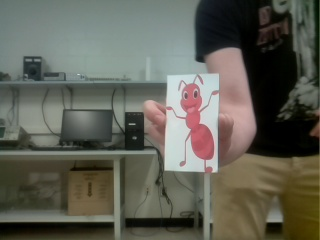Happy: (166, 74, 219, 173)
